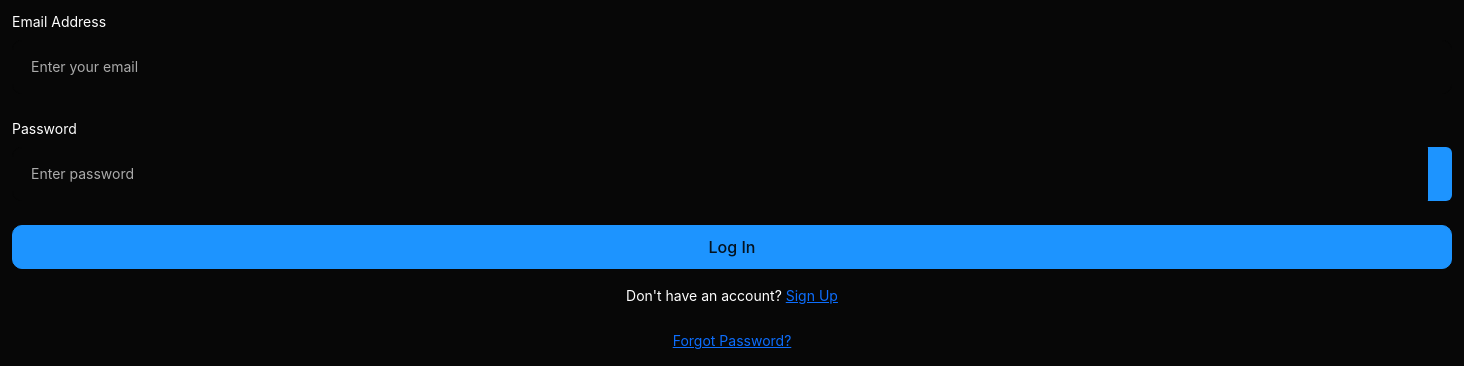
Test case: delivery ON: the code is never printed on screen (SECURITY)
In the field with placeholder "Enter your email": (732,67) [12,40,1452,94], type "trader@example.com"
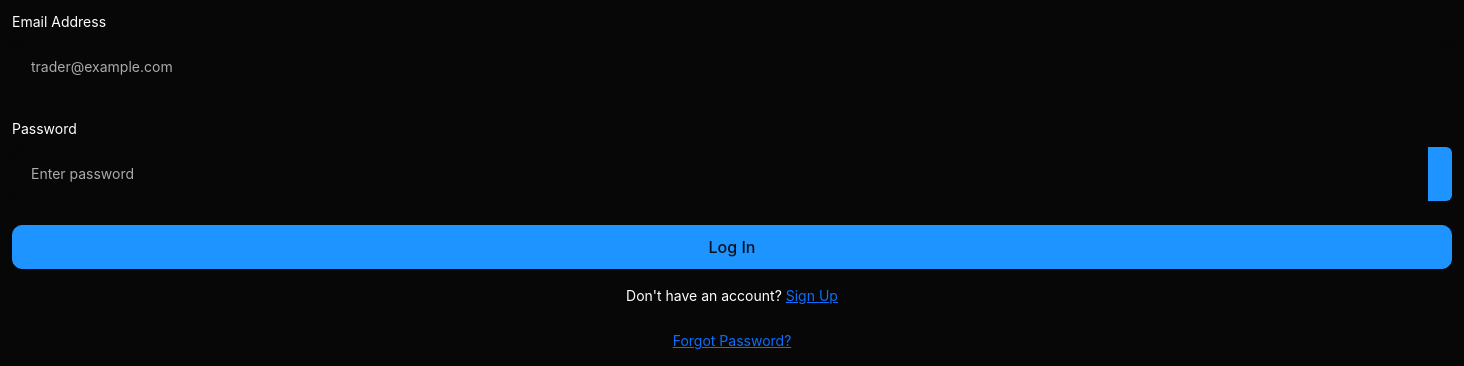
In the password field with placeholder "Enter password": (720,174) [12,147,1428,201], type "Passw0rd!23"
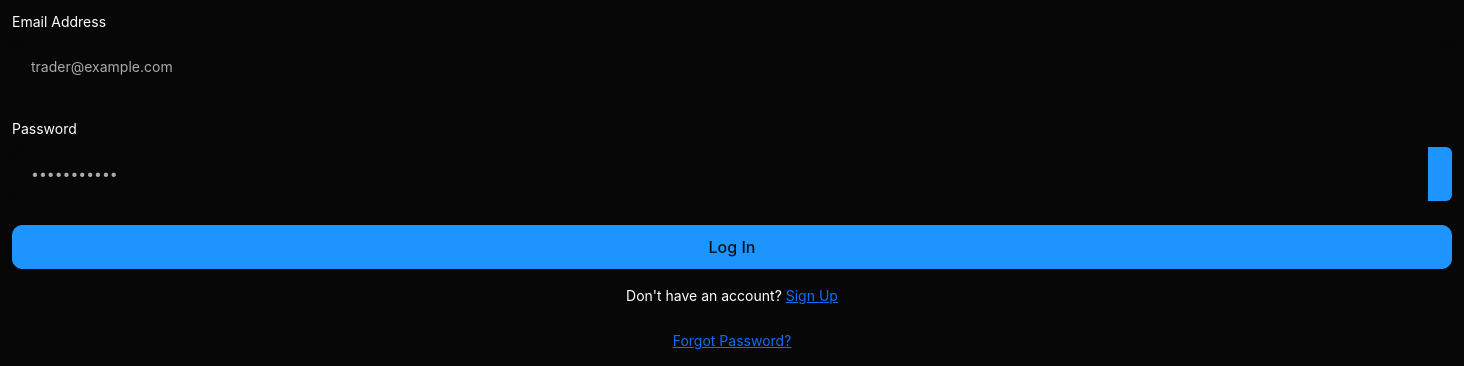
Click the button "Log In": (732,247) [12,225,1452,269]
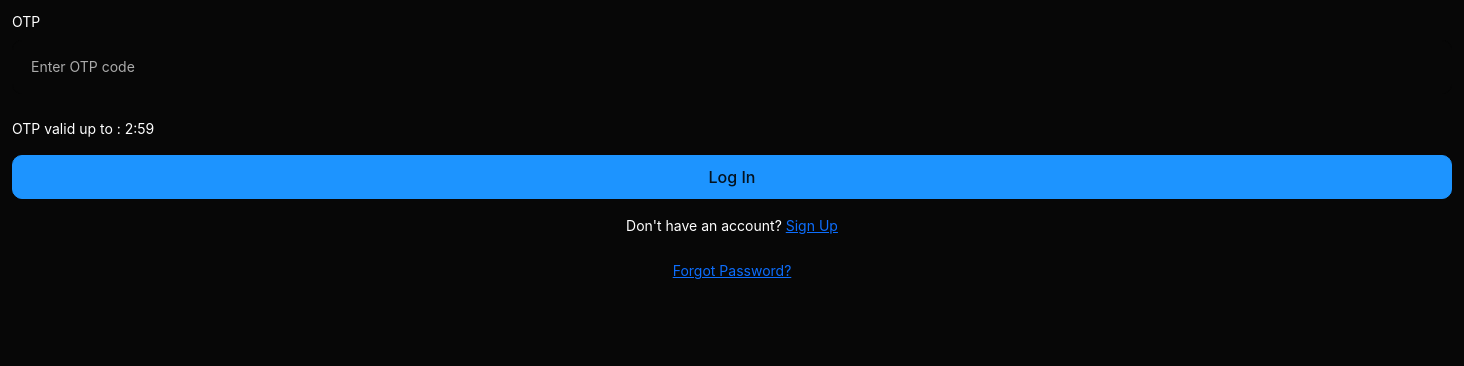
Check: the field with placeholder "Enter OTP code" is shown, box [12,40,1452,94]
